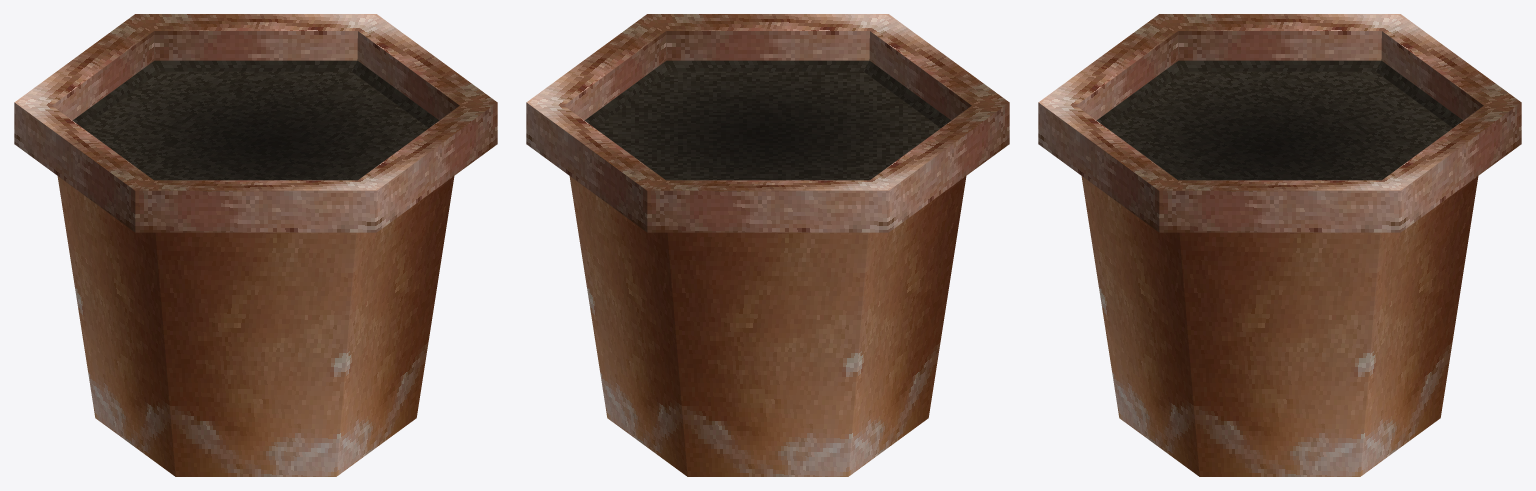
File: pot.glb
The picture shows the model from 3 angles, left to right: view 1: azimuth 30°, elevation 25°; view 2: azimuth 150°, elevation 25°; view 3: azimuth 270°, elevation 25°; orthographic projection.
Visible parts, largest first — view 1: pot; view 2: pot; view 3: pot.
Boxes of the visible parts, x1,y1,x2,y2 form: pot: (14,14,497,476); pot: (526,14,1009,476); pot: (1038,14,1521,476).
Size of the model in its own units: 0.4103 by 0.3418 by 0.4738.
1 material, 1 textured.
